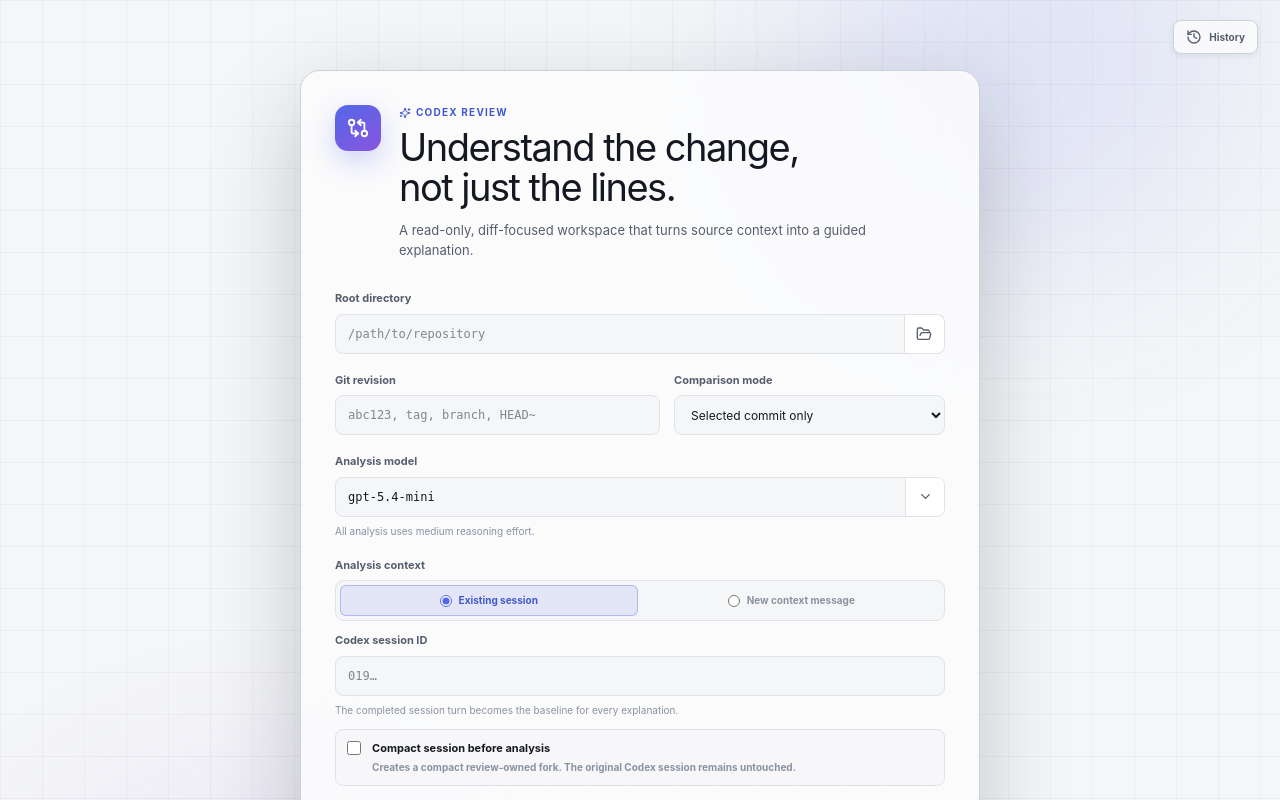
review components › restores a recent review into the setup form without submitting it
What coordinates should you click on to do the following:
click the button with aria-label "Open recent reviews"
I would click on:
 (1216, 37)
Its box is [1173, 20, 1258, 54].
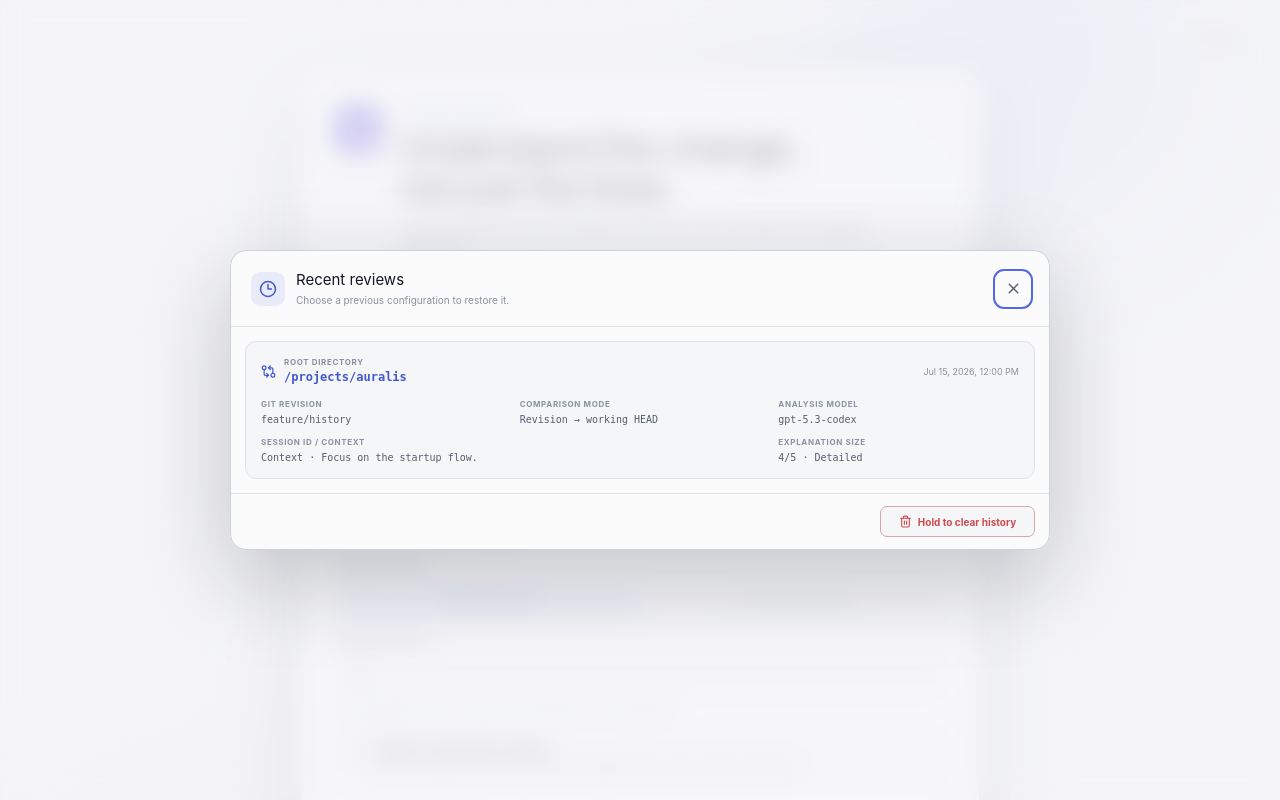
Expected: the dialog "Recent reviews" is shown, [230, 250, 1050, 550]
What coordinates should you click on to do the following:
click the button "projects/auralis"
I would click on:
 (324, 362)
Its box is [245, 342, 1035, 479].
(page scrolled)
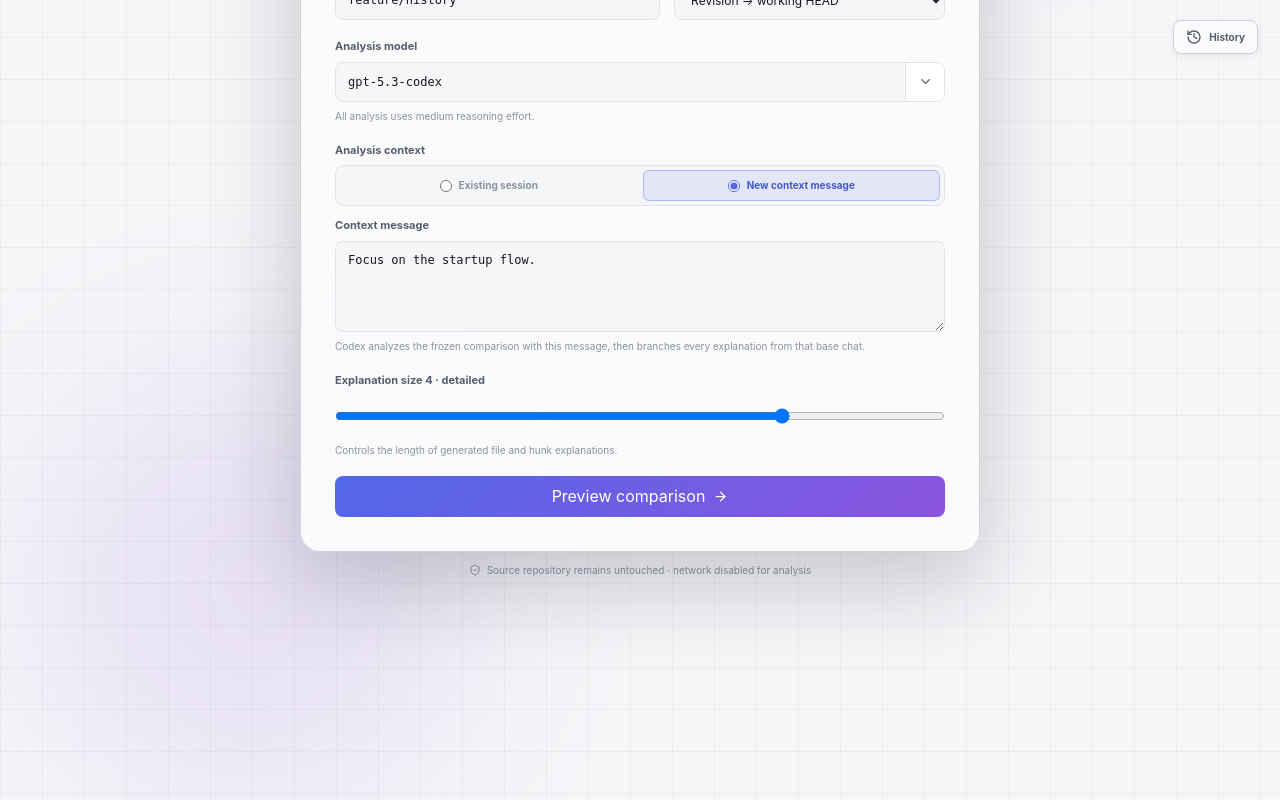
Expected: the dropdown labelled "Analysis model All analysis uses medium reasoning effort." holds "gpt-5.3-codex", [335, 62, 945, 102]
Expected: the radio button labelled "New context message" is checked, [728, 180, 740, 192]
Expected: the text box labelled "Context message" holds "Focus on the startup flow.", [335, 241, 945, 332]
